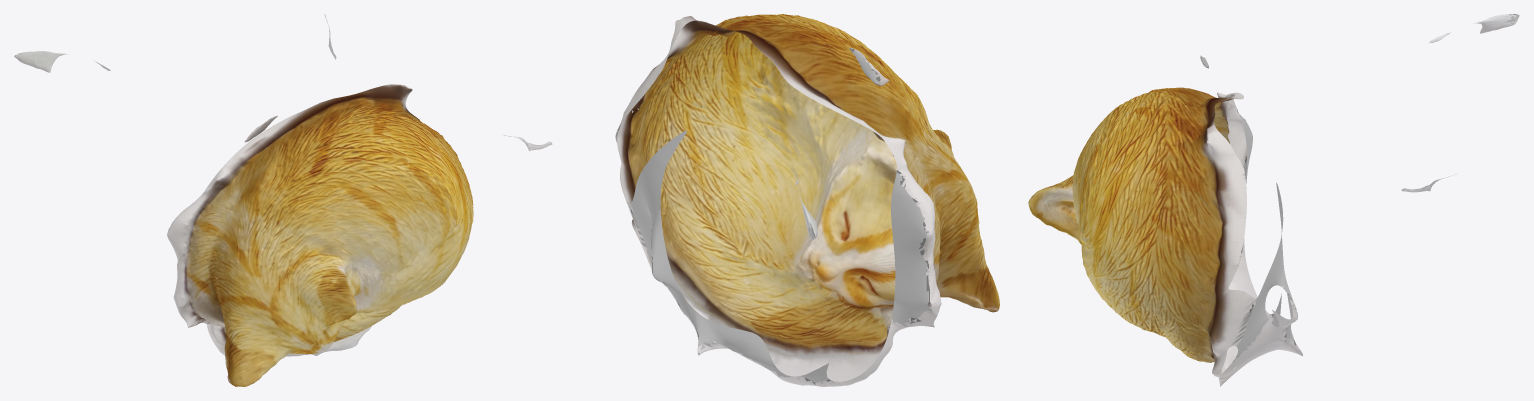
File: cat_figure.glb
3 views of the same model, side by side, from view 1: azimuth 30°, elevation 25°; view 2: azimuth 150°, elevation 25°; view 3: azimuth 270°, elevation 25° (orthographic). The views are drawn at different scales.
Parts seen in each view (by area): view 1: Object_3, Object_2, Object_4; view 2: Object_2, Object_3, Object_4, Object_5; view 3: Object_2, Object_3, Object_4, Object_5.
Part boxes in pixels (x1=…): Object_3: x1=50, y1=44, x2=473, y2=386; Object_2: x1=15, y1=14, x2=471, y2=386; Object_4: x1=14, y1=54, x2=473, y2=386; Object_2: x1=503, y1=14, x2=999, y2=386; Object_3: x1=526, y1=14, x2=999, y2=385; Object_4: x1=538, y1=14, x2=999, y2=386; Object_5: x1=616, y1=50, x2=928, y2=382; Object_2: x1=1034, y1=14, x2=1518, y2=386; Object_3: x1=1028, y1=23, x2=1513, y2=379; Object_4: x1=1028, y1=14, x2=1518, y2=384; Object_5: x1=1201, y1=14, x2=1518, y2=362.
Bounding box in the file's own units: 38.75 × 33.09 × 51.57.
Materials: 2 (1 with a texture image).
